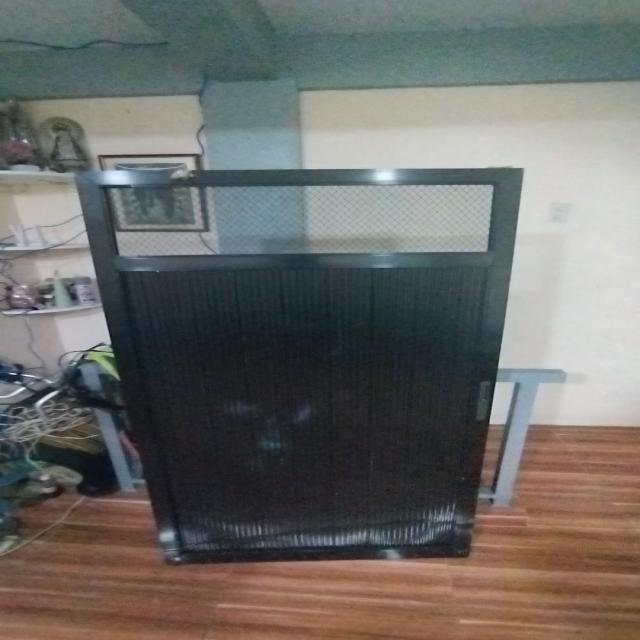door: (61, 160, 540, 564)
